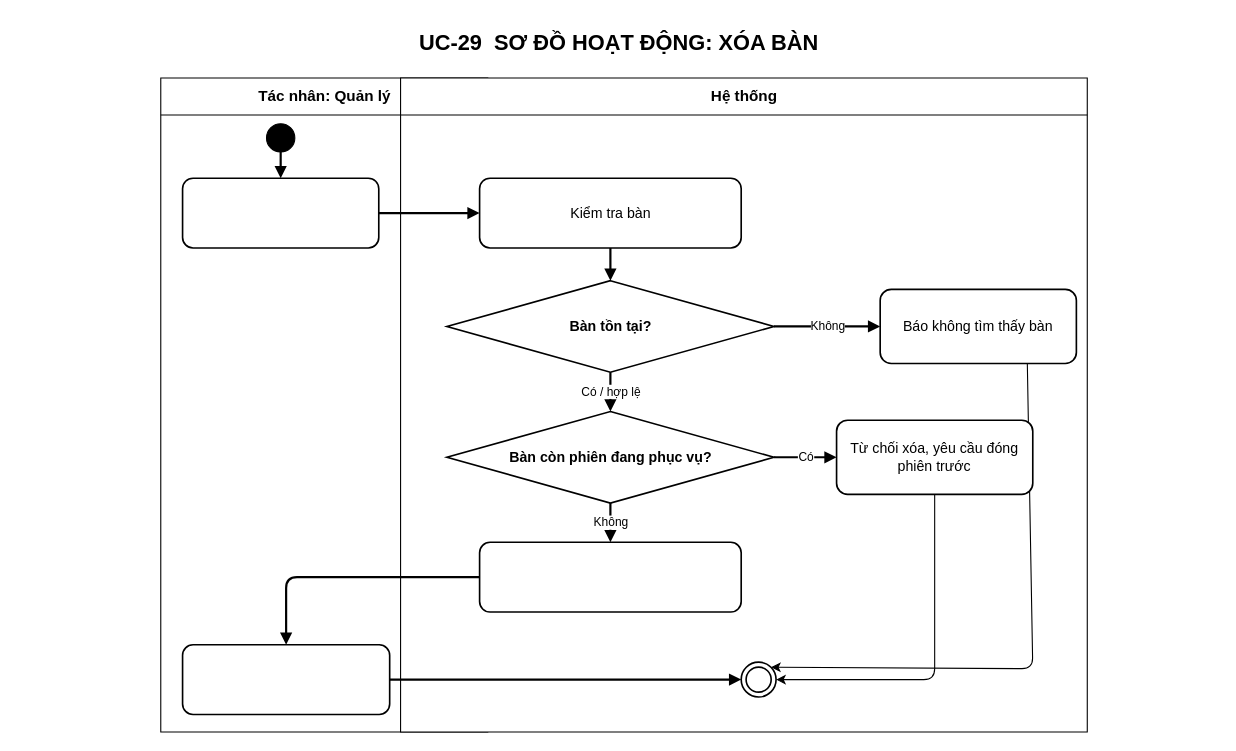
This 1236x751 diagram has some shape labels left out. The box of each missing label's shape, as (x1, y1, x2, y2) in pixels:
Bàn biến mất khỏi lưới bàn: (181, 643, 390, 715)
Chọn bàn và bấm xóa: (181, 177, 379, 248)
Vô hiệu mã QR của bàn và xóa mềm bàn: (478, 541, 742, 612)
